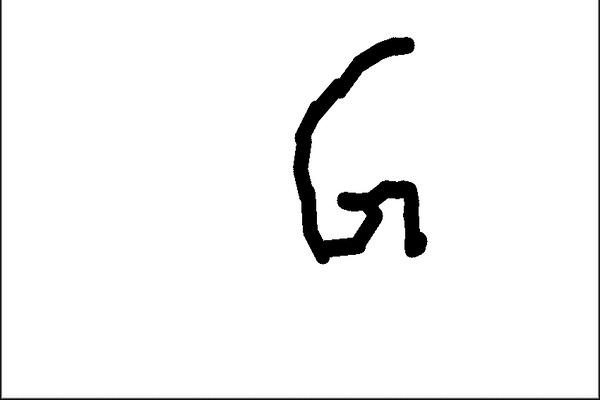G: (286, 31, 438, 266)
